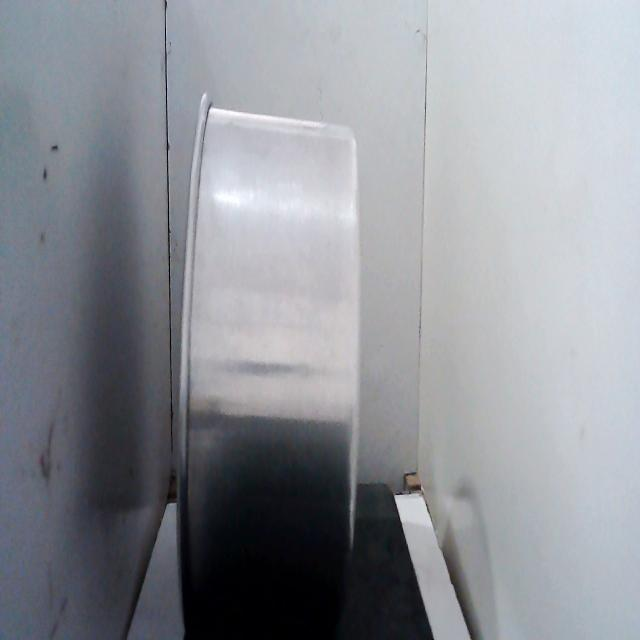metal: (168, 86, 370, 640)
